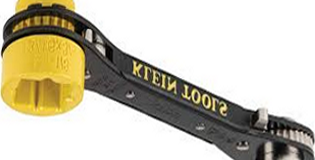Wrench: (1, 1, 315, 160)
